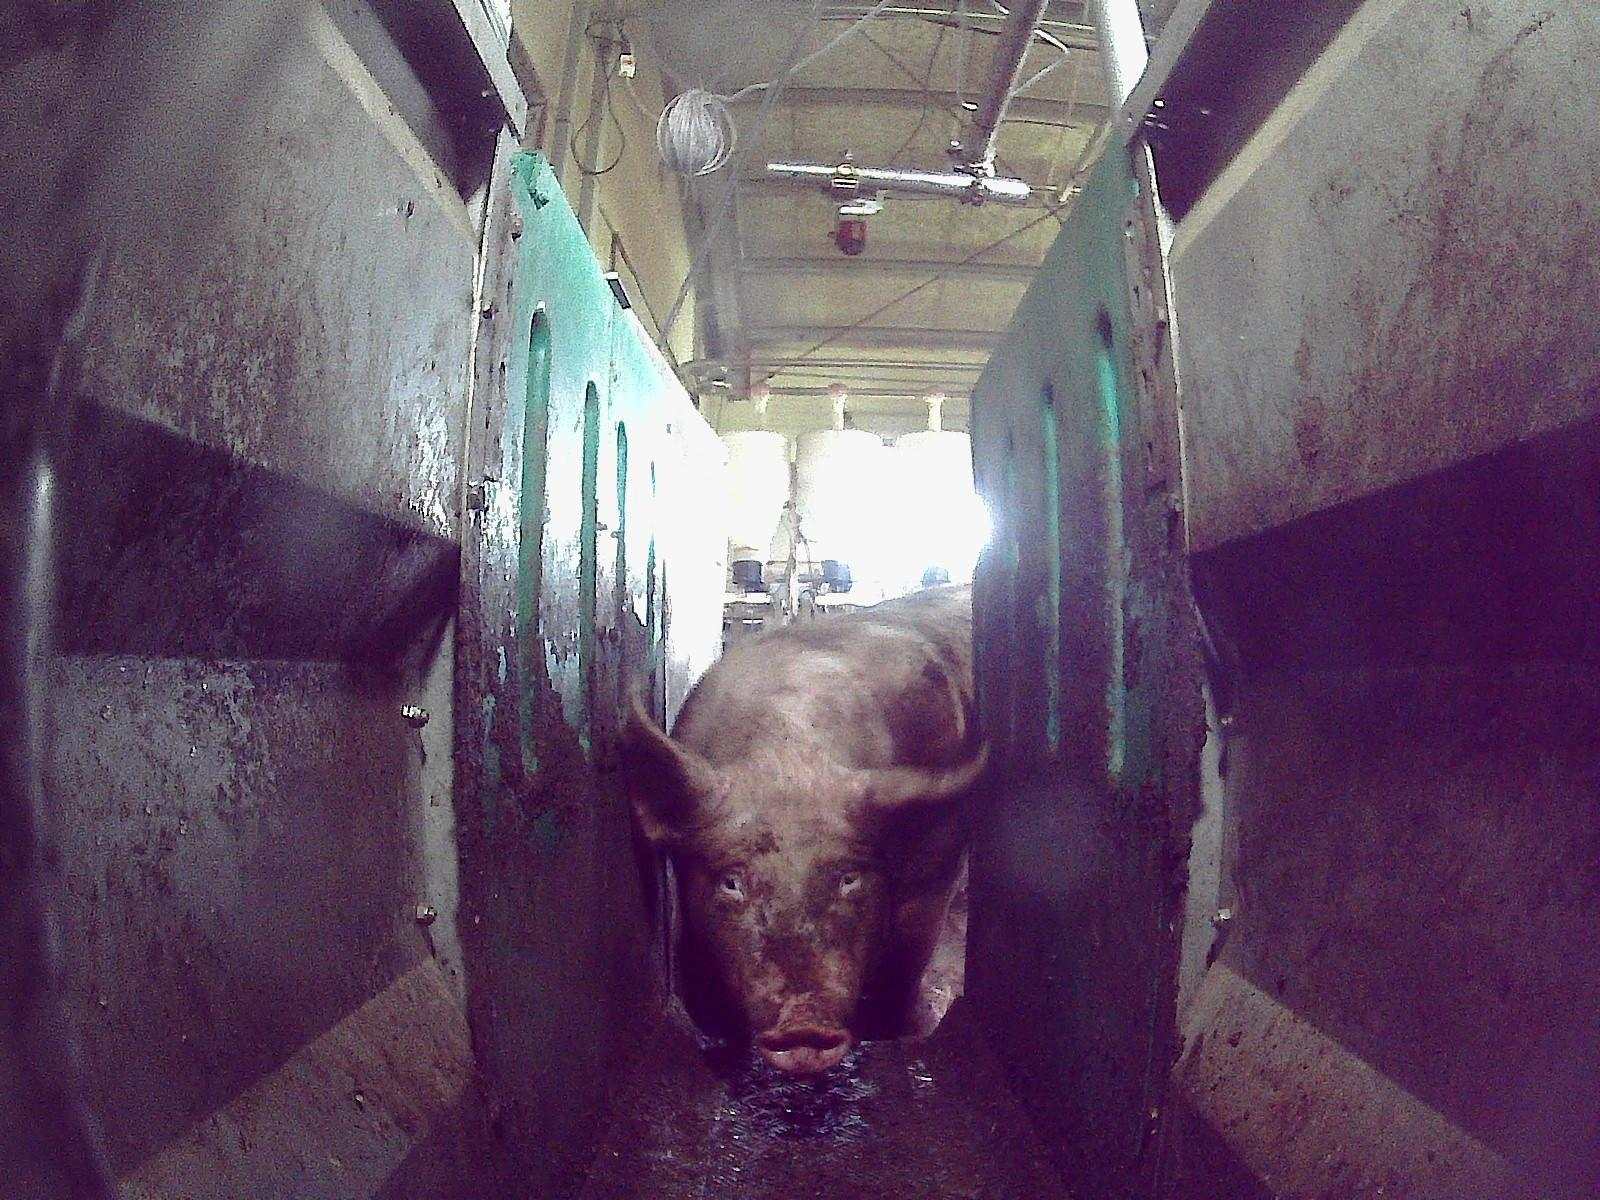Face: (664, 770, 885, 1071)
